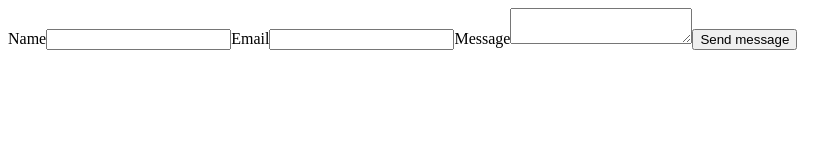
ContactForm › blocks an invalid email before any request
The image size is (814, 160).
Type "Ada" into the field labelled "Name". click: (139, 40)
box: [46,29,231,50]
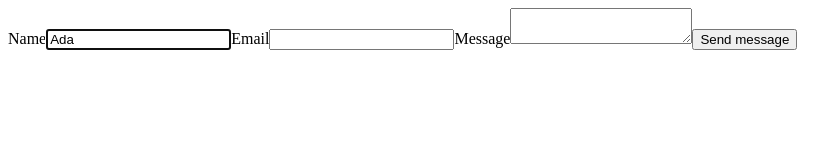
Type "not-an-email" into the field labelled "Email". click: (362, 40)
box: [269,29,454,50]
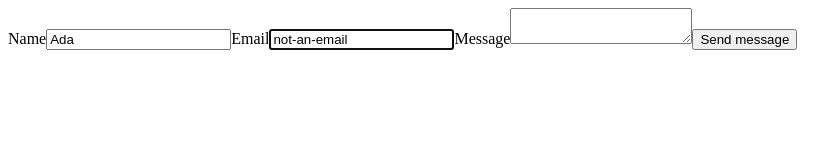
Type "Hello" into the text box labelled "Message". click: (601, 26)
box: [510,8,692,44]
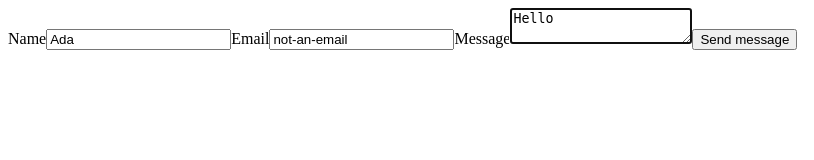
Click the button "Send message". click: (745, 40)
box: [692,29,797,50]
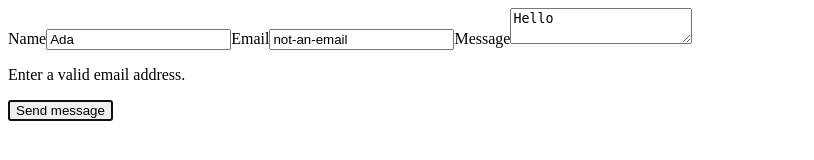
expect the message shows "valid email": met, box [8,66,185,83]
